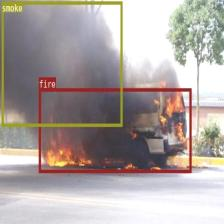fire: (38, 87, 191, 172)
smoke: (1, 1, 122, 126)
